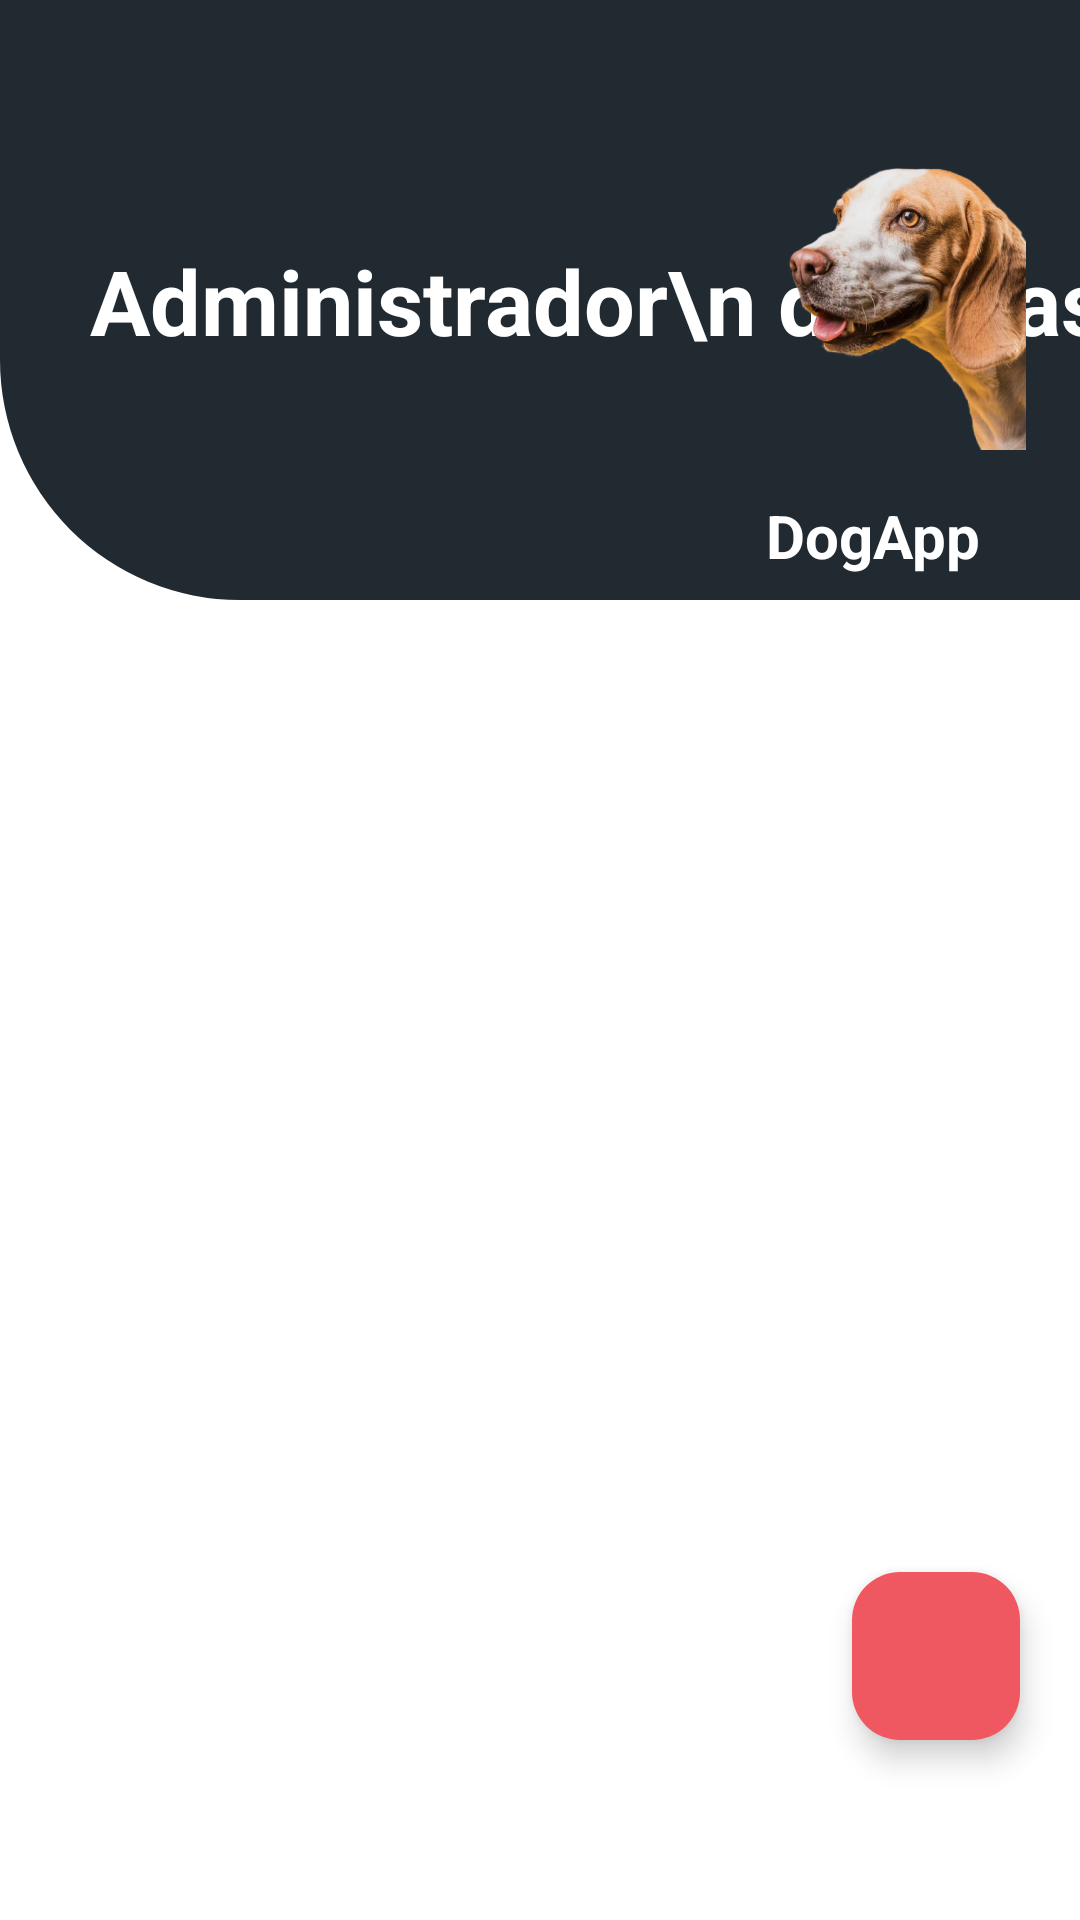

Point at icon controls on the screen. Image size 1080x1920, points as (x,y).
perro cabeza: (876,309)
